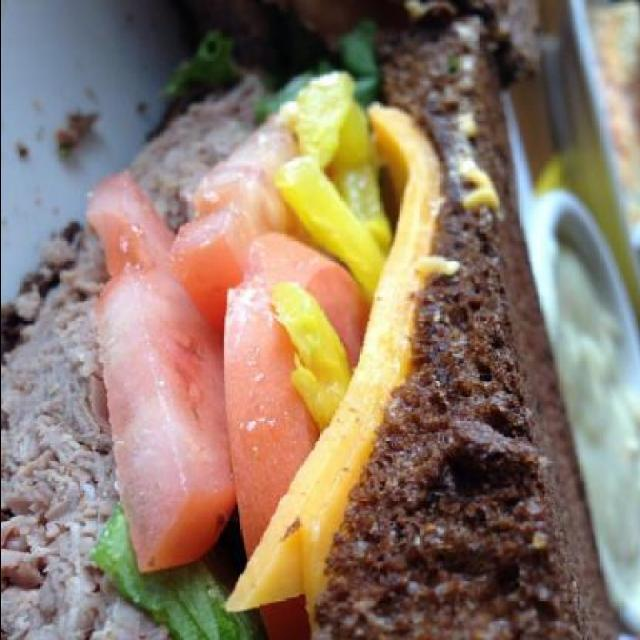Sandwich: (1, 2, 639, 640)
